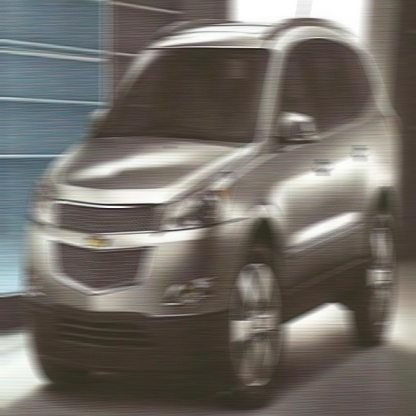Vehicle: (21, 1, 401, 410)
